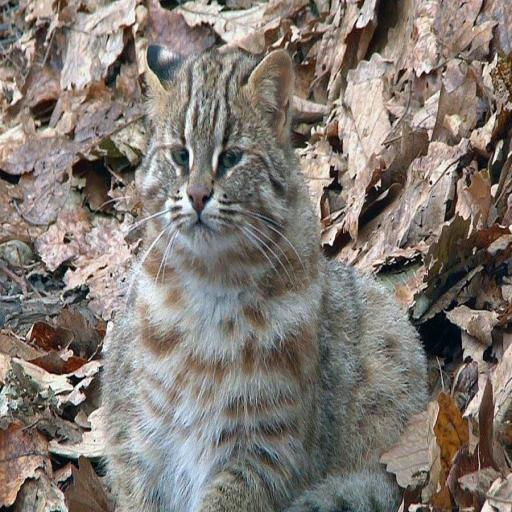cat: (102, 45, 427, 511)
